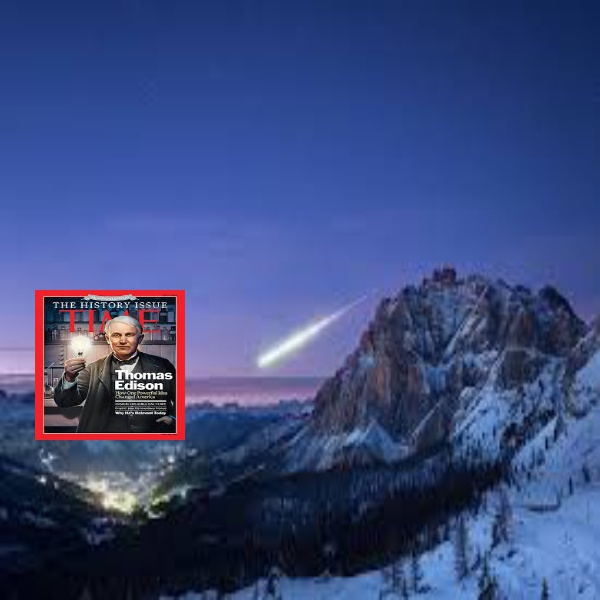time_cover: (33, 277, 189, 444)
